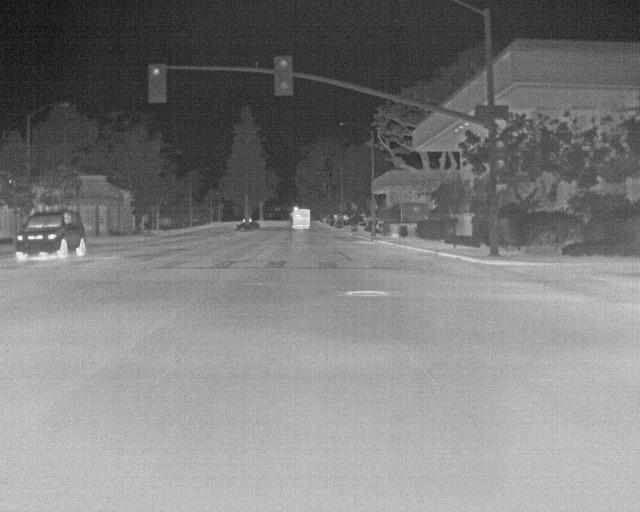car: (15, 209, 86, 260), (292, 209, 311, 229)
light: (276, 57, 291, 93), (494, 140, 507, 176), (150, 66, 164, 99), (494, 183, 509, 196)
sign: (476, 105, 508, 120), (371, 200, 377, 211), (339, 202, 346, 210)
